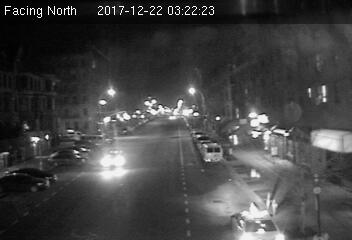car: (231, 199, 284, 240), (102, 148, 125, 170)
truck: (201, 143, 223, 163)
